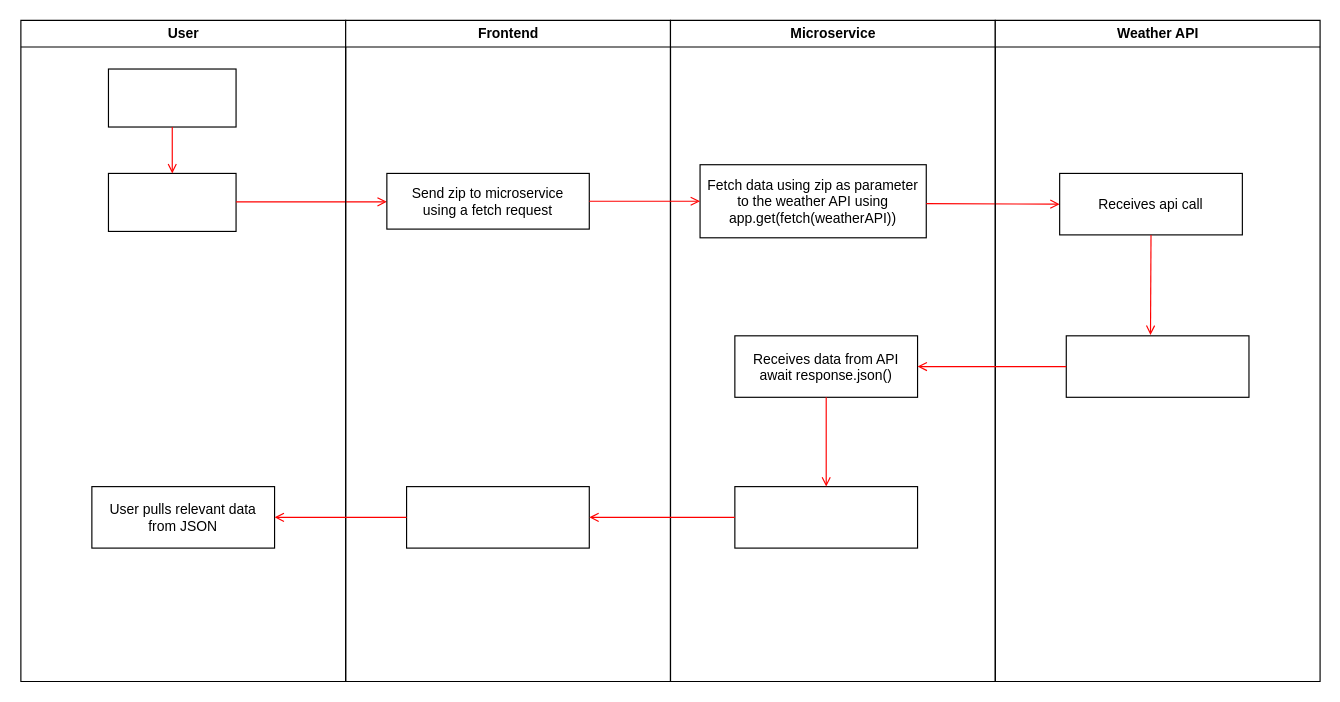
This 1340x702 diagram has some shape labels left out. Each missing label, with the centre of its shape:
"Clicks submit" belongs at [171,201].
"Enter zip code" belongs at [171,97].
"Receives JSON which may be modified" belongs at [497,516].
"Responds with data to be sent" belongs at [1157,366].
"Responds with JSON of weather data res.json(data)" belongs at [826,516].
